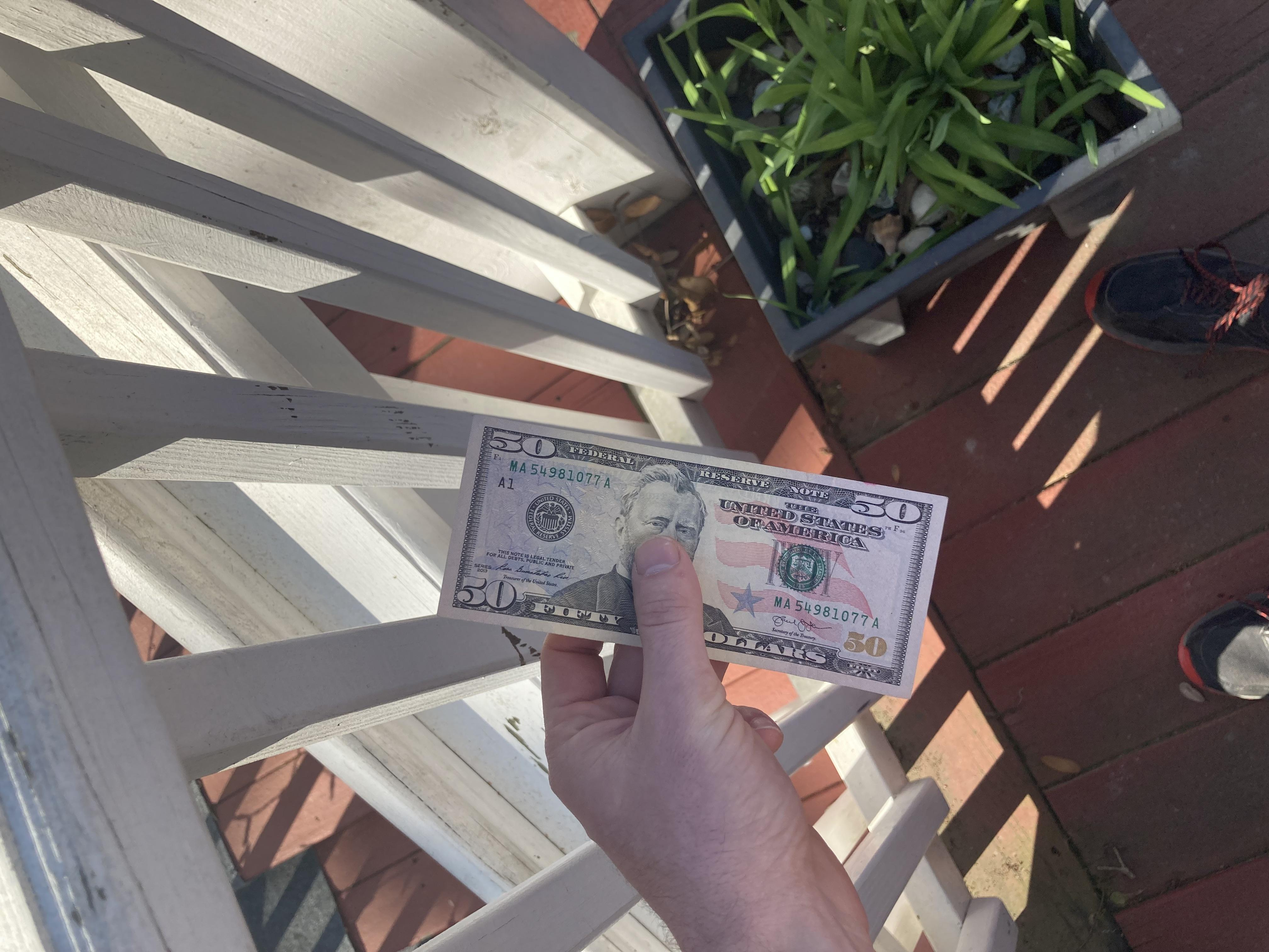fifty-front: (334, 327, 711, 711)
